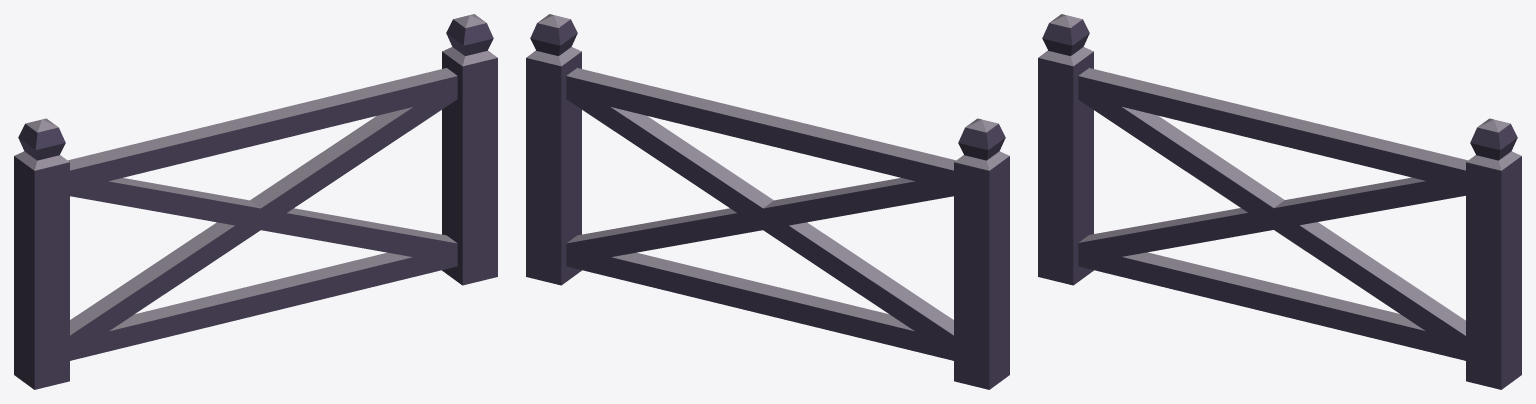
File: gate.fbx
3 renders of one model, left to right at view 1: azimuth 30°, elevation 25°; view 2: azimuth 150°, elevation 25°; view 3: azimuth 330°, elevation 25°, orthographic.
Parts seen in each view (by area): view 1: building_5:pCube16, building_5:pCube17, building_5:pCube13, building_5:pCube14, building_5:pCube15, building_5:pCube12, building_5:pSphere4, building_5:pSphere3; view 2: building_5:pCube16, building_5:pCube17, building_5:pCube13, building_5:pCube14, building_5:pCube15, building_5:pCube12, building_5:pSphere4, building_5:pSphere3; view 3: building_5:pCube12, building_5:pCube14, building_5:pCube13, building_5:pCube16, building_5:pCube15, building_5:pCube17, building_5:pSphere3, building_5:pSphere4.
Part boxes in pixels (x1,y1,x2,y2): building_5:pCube16: [14, 151, 69, 389]; building_5:pCube17: [70, 90, 457, 356]; building_5:pCube13: [68, 68, 457, 190]; building_5:pCube14: [442, 47, 497, 285]; building_5:pCube15: [70, 248, 457, 360]; building_5:pCube12: [70, 175, 457, 264]; building_5:pSphere4: [18, 118, 65, 160]; building_5:pSphere3: [446, 14, 493, 56]; building_5:pCube16: [954, 151, 1009, 389]; building_5:pCube17: [566, 96, 953, 354]; building_5:pCube13: [566, 68, 955, 190]; building_5:pCube14: [526, 47, 581, 285]; building_5:pCube15: [566, 247, 953, 360]; building_5:pCube12: [566, 176, 953, 264]; building_5:pSphere4: [958, 118, 1005, 160]; building_5:pSphere3: [530, 14, 577, 56]; building_5:pCube12: [1078, 79, 1465, 357]; building_5:pCube14: [1466, 151, 1521, 389]; building_5:pCube13: [1078, 68, 1467, 189]; building_5:pCube16: [1038, 47, 1093, 285]; building_5:pCube15: [1078, 247, 1465, 360]; building_5:pCube17: [1078, 174, 1465, 264]; building_5:pSphere3: [1470, 118, 1517, 160]; building_5:pSphere4: [1042, 14, 1089, 56].
Bounding box in the file's own units: 2.62 × 1.4 × 0.1999.
